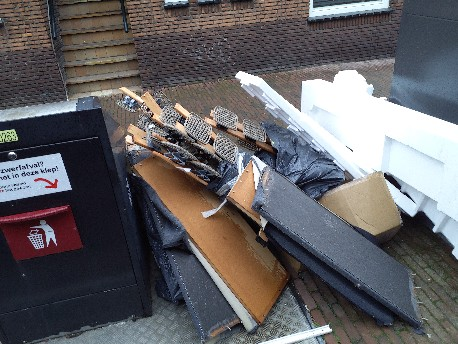Container: (4, 95, 139, 318)
Rest: (240, 163, 414, 308), (143, 146, 270, 322), (344, 71, 458, 232), (218, 64, 336, 177), (142, 94, 238, 163)
